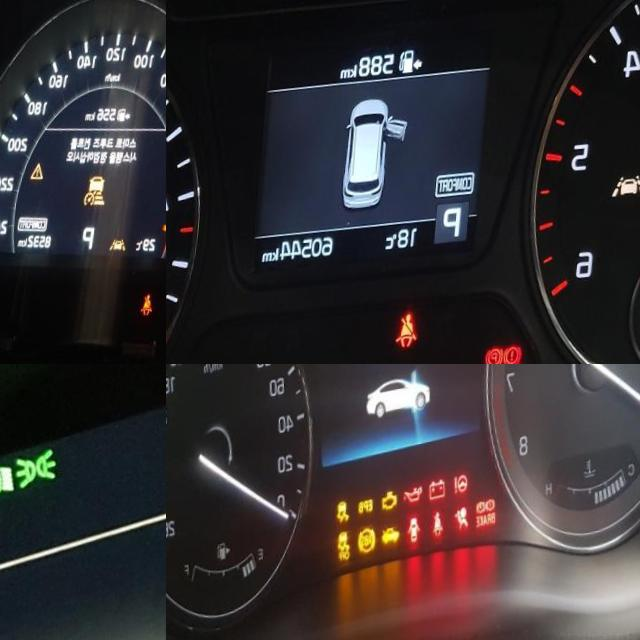Central Warning lamp: (36, 167, 52, 188)
Doors: (416, 521, 432, 551)
LaneCenteringOff: (619, 185, 640, 208)
Low beam: (0, 461, 22, 503)
SideLamp: (17, 447, 67, 494)
